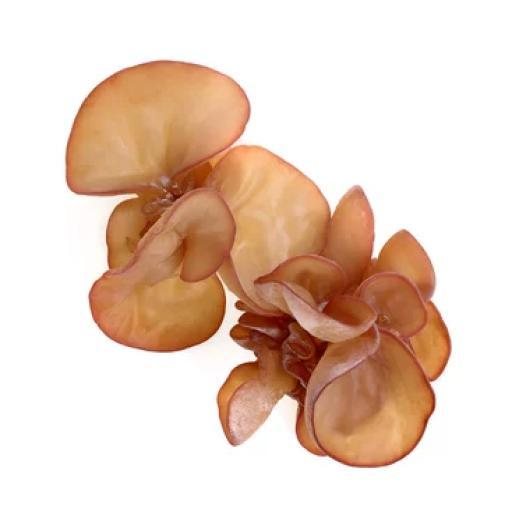mushroom: (54, 51, 462, 493)
